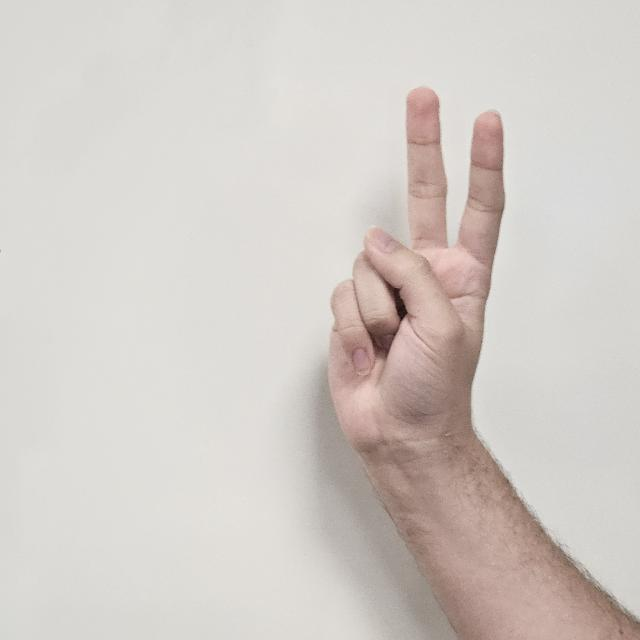Triangulo: (322, 88, 518, 500)
